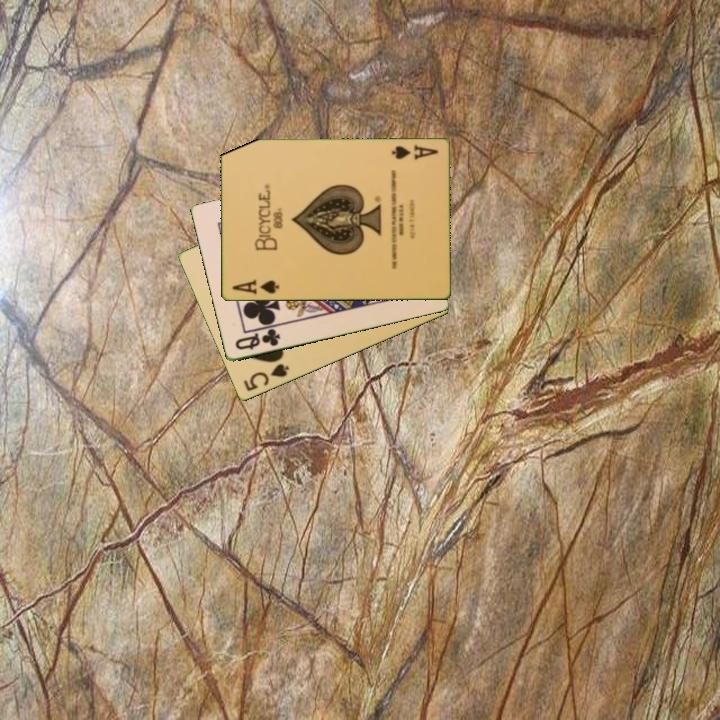5s: (240, 360, 292, 395)
As: (388, 141, 441, 163), (229, 276, 281, 298)
Qc: (231, 325, 283, 353)
